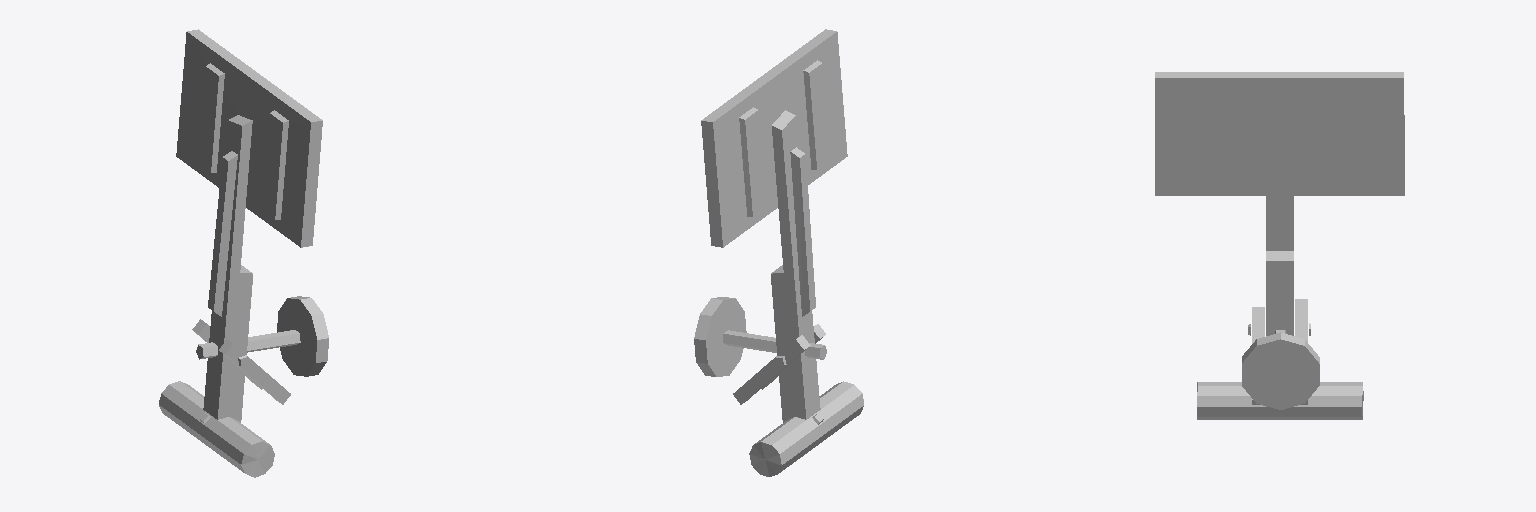
File: P_Modul_37_Bridge.obj
3 views of the same model, side by side, from view 1: azimuth 30°, elevation 25°; view 2: azimuth 150°, elevation 25°; view 3: azimuth 270°, elevation 25° (orthographic).
Visible parts, largest first — view 1: P_Modul_37_Bridge; view 2: P_Modul_37_Bridge; view 3: P_Modul_37_Bridge.
Part boxes in pixels (x1,y1,x2,y2): P_Modul_37_Bridge: (159,29,328,477); P_Modul_37_Bridge: (694,29,863,476); P_Modul_37_Bridge: (1155,72,1404,419).
Bounding box in the file's own units: 4.71 × 14.48 × 9.03.